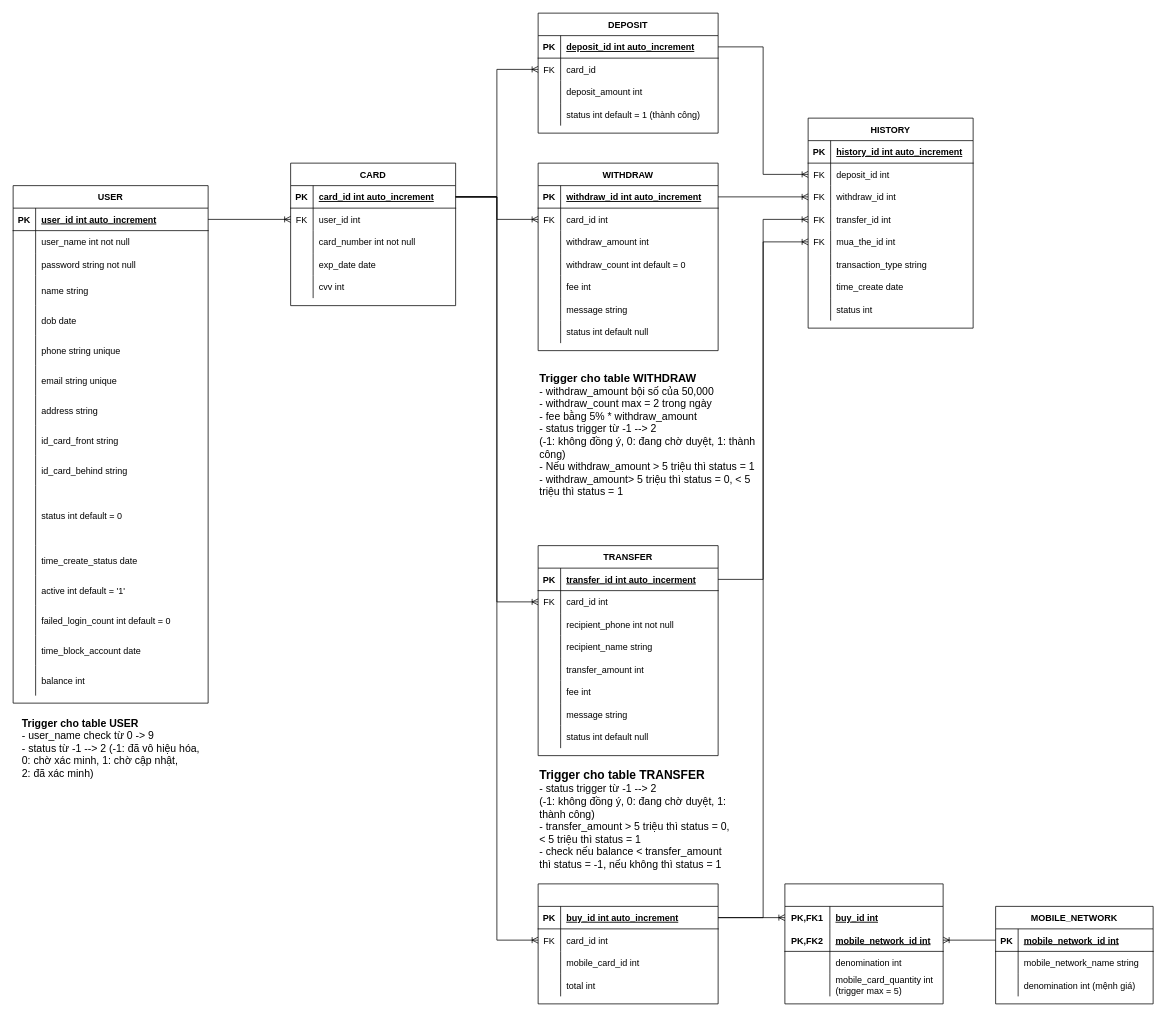
This 1166x1017 diagram has some shape labels left out. The box of each missing label's shape, as (x1, y1, x2, y2) in pixels:
BUYING_CARD_TRANSACTION: (784, 883, 943, 1004)
BUYING_MOBILE_CARD: (537, 883, 718, 1004)
